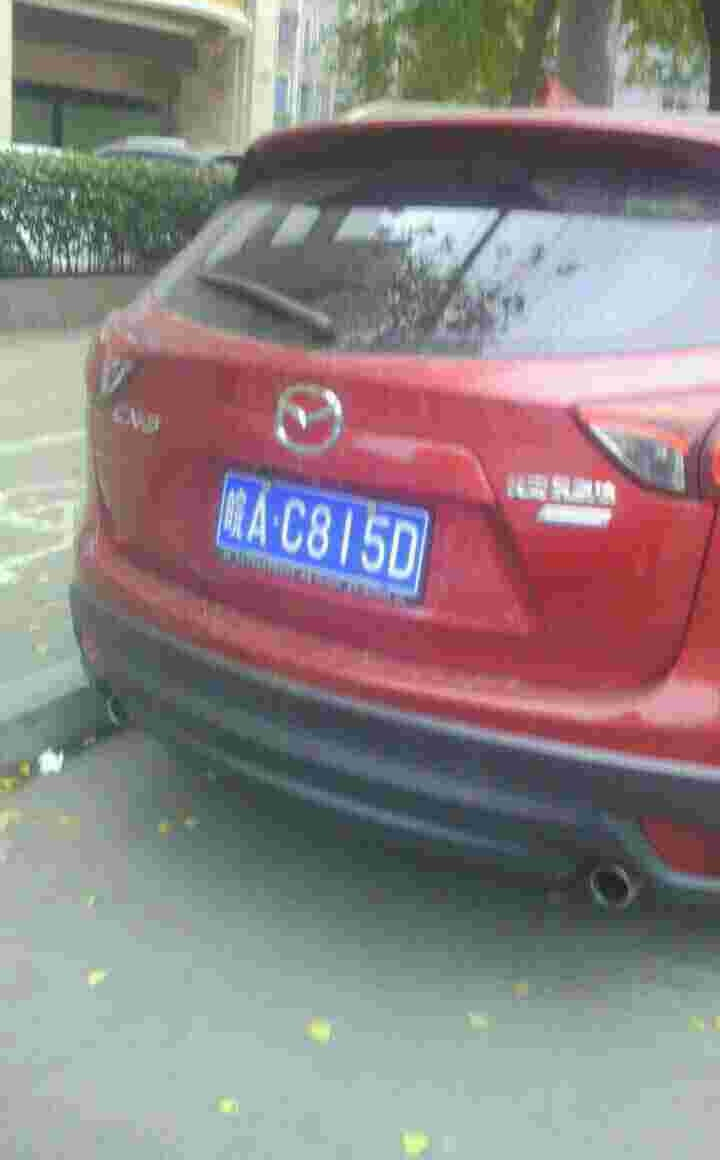license_plate: (215, 479, 427, 604)
